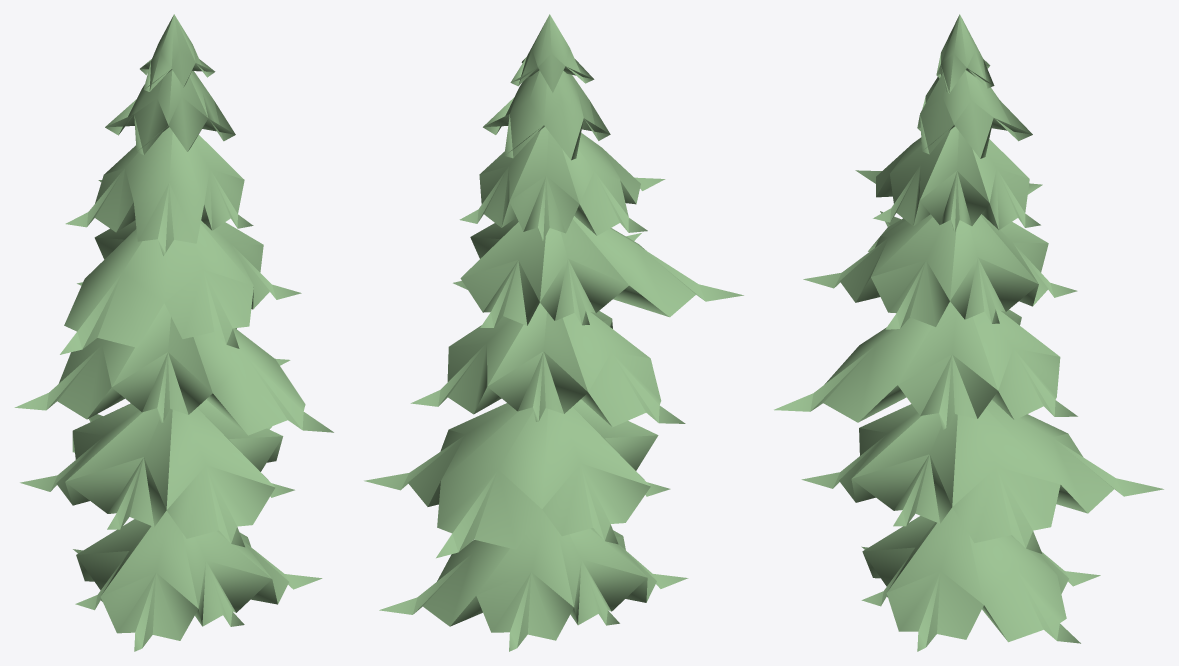
Rendered from tree-pine-a-crown.glb.
The picture shows the model from 3 angles, left to right: view 1: azimuth 30°, elevation 25°; view 2: azimuth 150°, elevation 25°; view 3: azimuth 270°, elevation 25°; orthographic projection.
Parts seen in each view (by area): view 1: tree-pine-a-crown; view 2: tree-pine-a-crown; view 3: tree-pine-a-crown.
Boxes of the visible parts, <box> form: tree-pine-a-crown: <box>14,14,333,651</box>; tree-pine-a-crown: <box>364,14,743,651</box>; tree-pine-a-crown: <box>774,14,1163,651</box>.
Bounding box in the file's own units: 0.2942 × 0.5505 × 0.3346.
